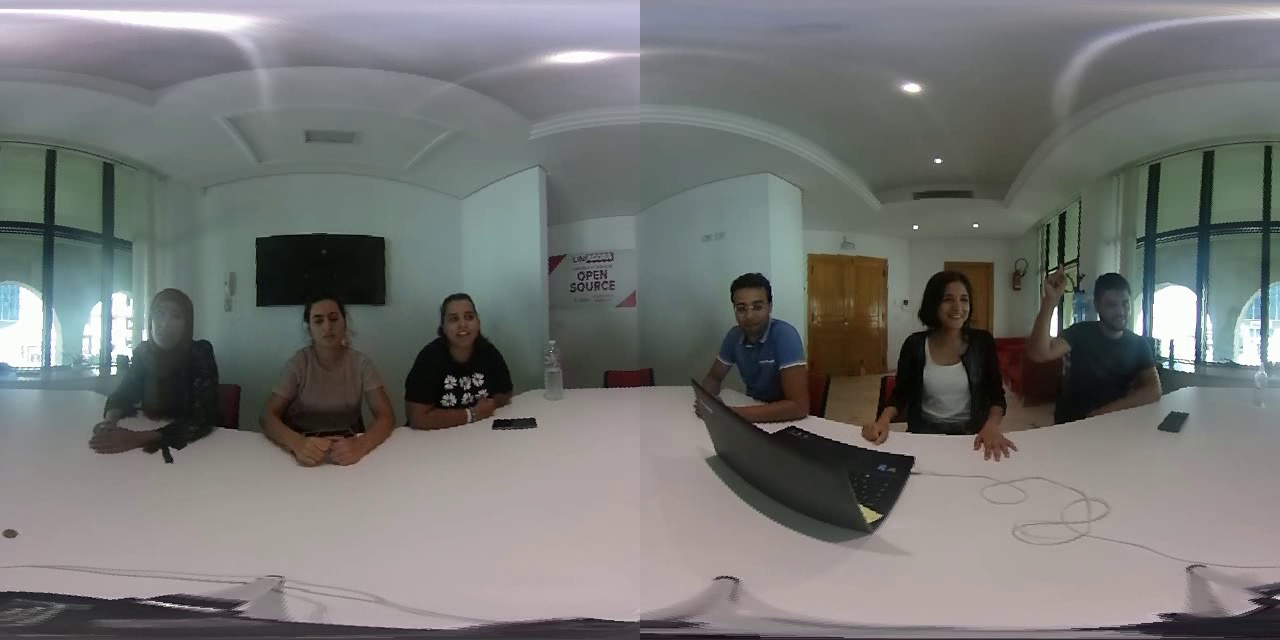person: (865, 262, 1013, 459), (1016, 258, 1173, 421), (88, 279, 219, 452), (261, 283, 398, 447), (398, 276, 538, 435), (686, 261, 820, 423)
speaking: (1022, 265, 1077, 376)
